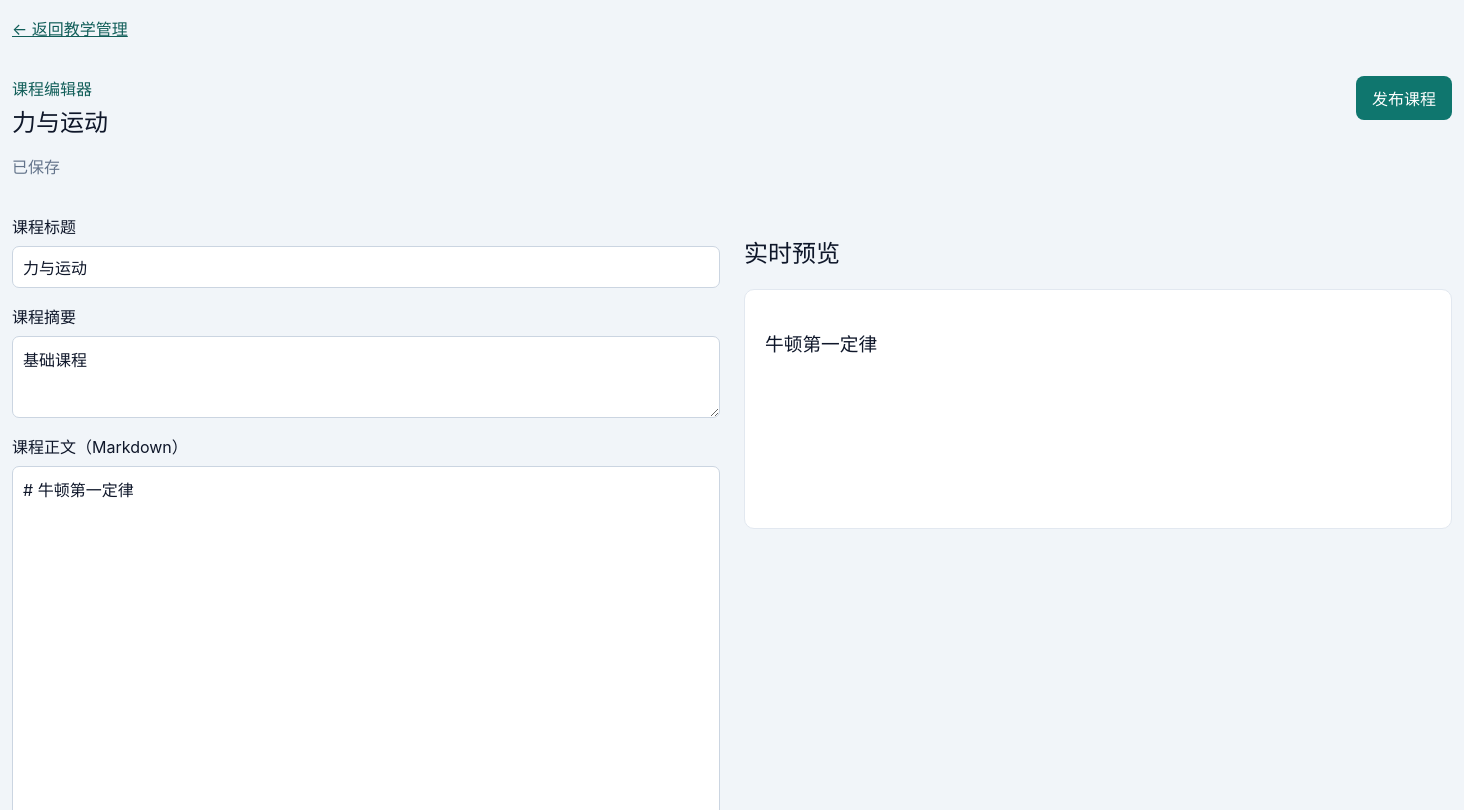
Test: LessonEditorView › serializes saves and immediately persists edits made during a request
The width and height of the screenshot is (1464, 810).
Replace the text in the field named "课程标题" with "第一次" at [366, 267], box x1=12 y1=246 x2=720 y2=288
Wait 800 ms
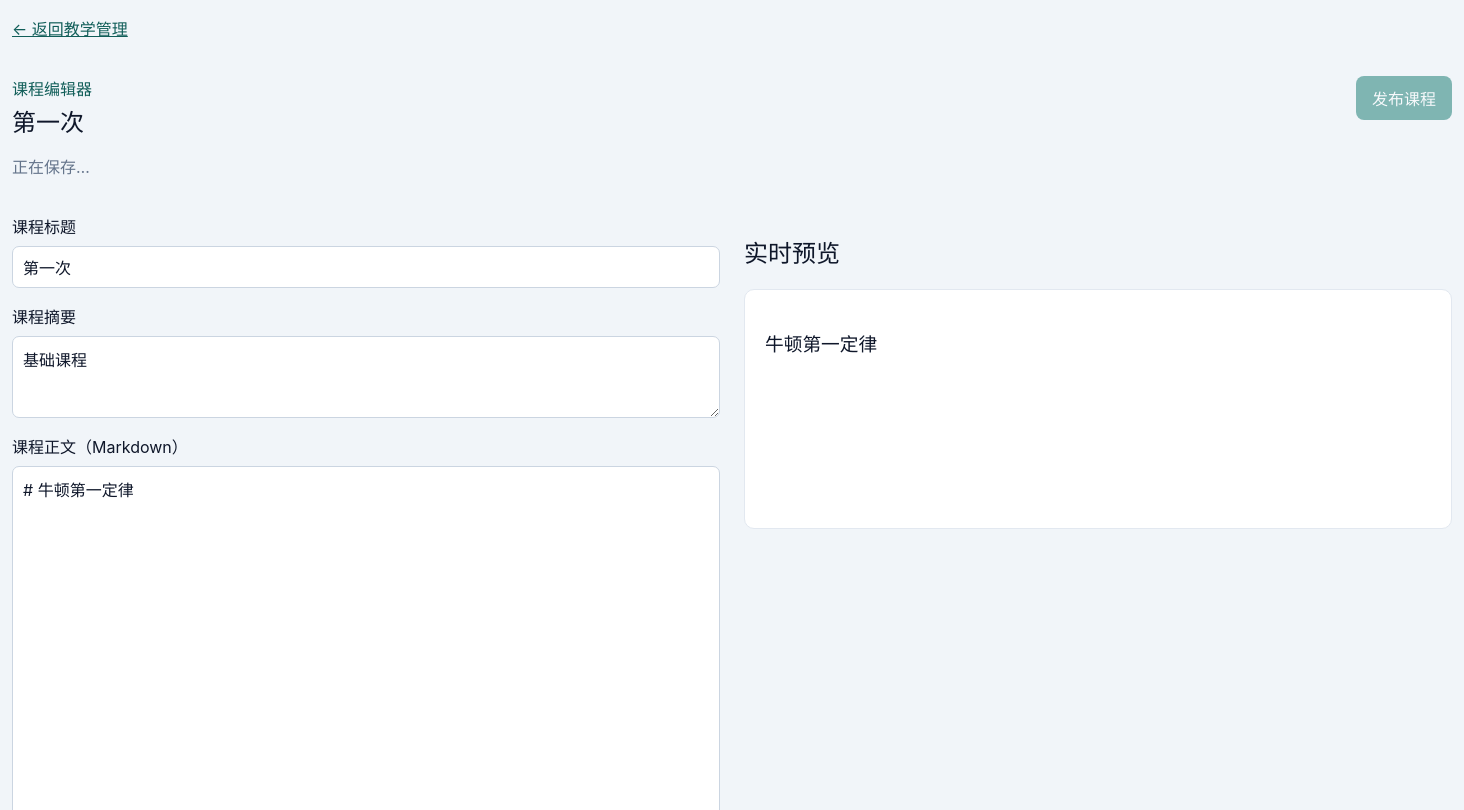
Replace the text in the field named "课程标题" with "最终标题" at [366, 267], box x1=12 y1=246 x2=720 y2=288
Wait 800 ms
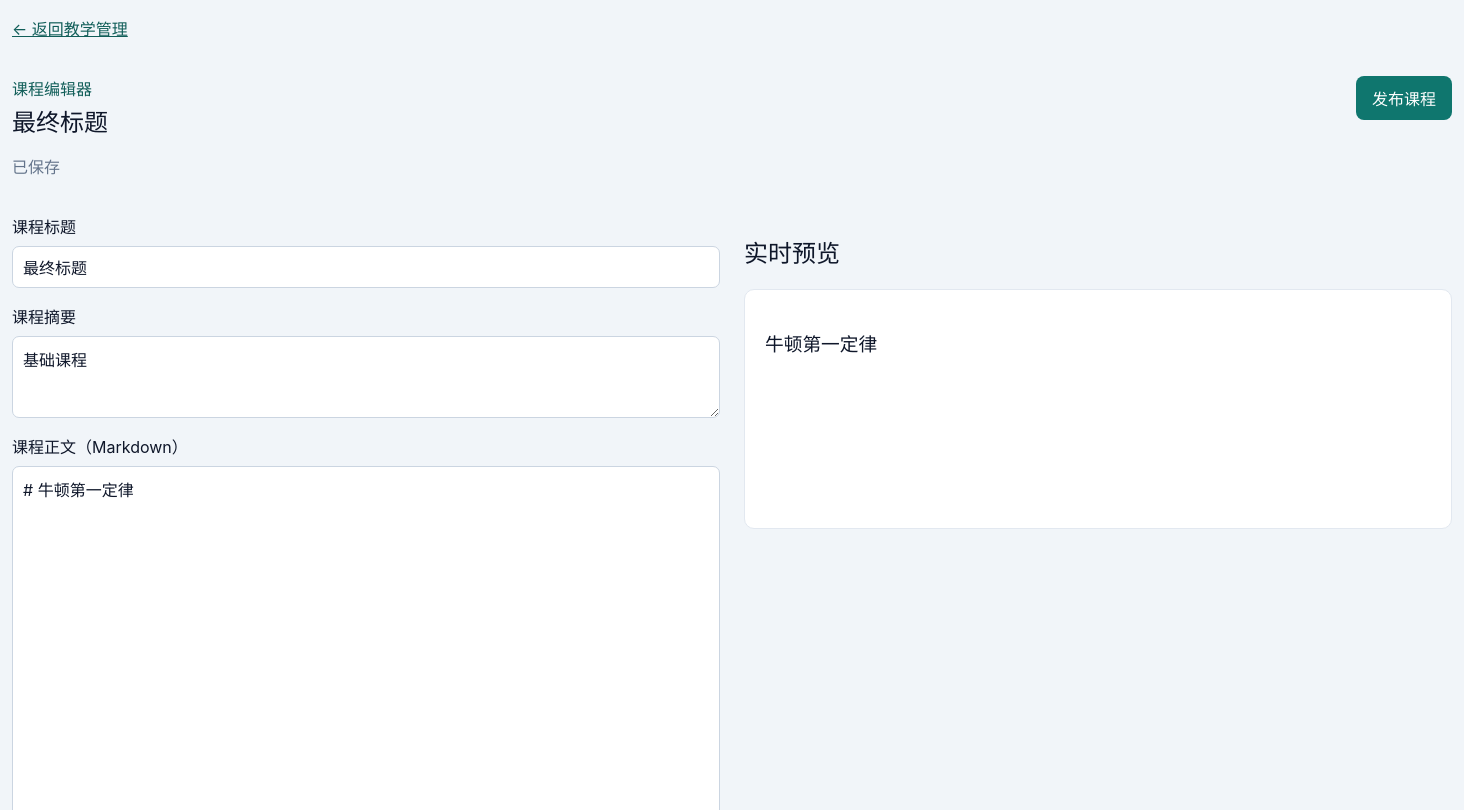
expect the heading "最终标题" is shown: met, box x1=12 y1=103 x2=108 y2=138
